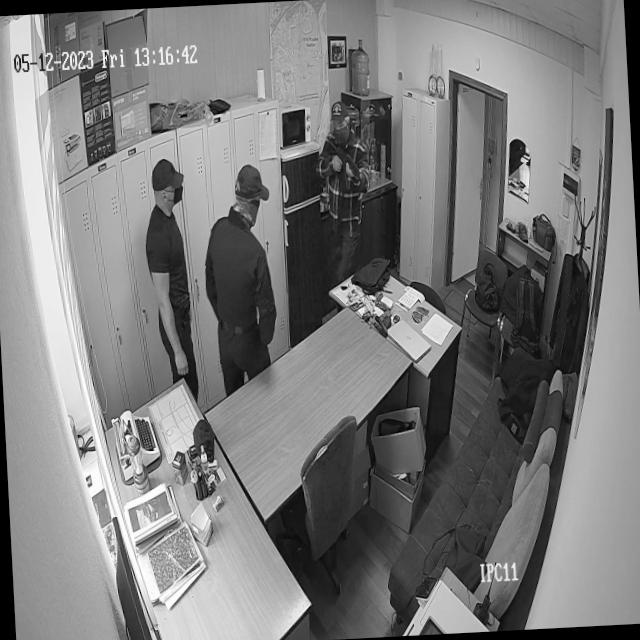gun: (320, 132, 368, 200)
person: (198, 162, 280, 360), (140, 152, 201, 381)
person with a gun: (312, 96, 374, 261)
